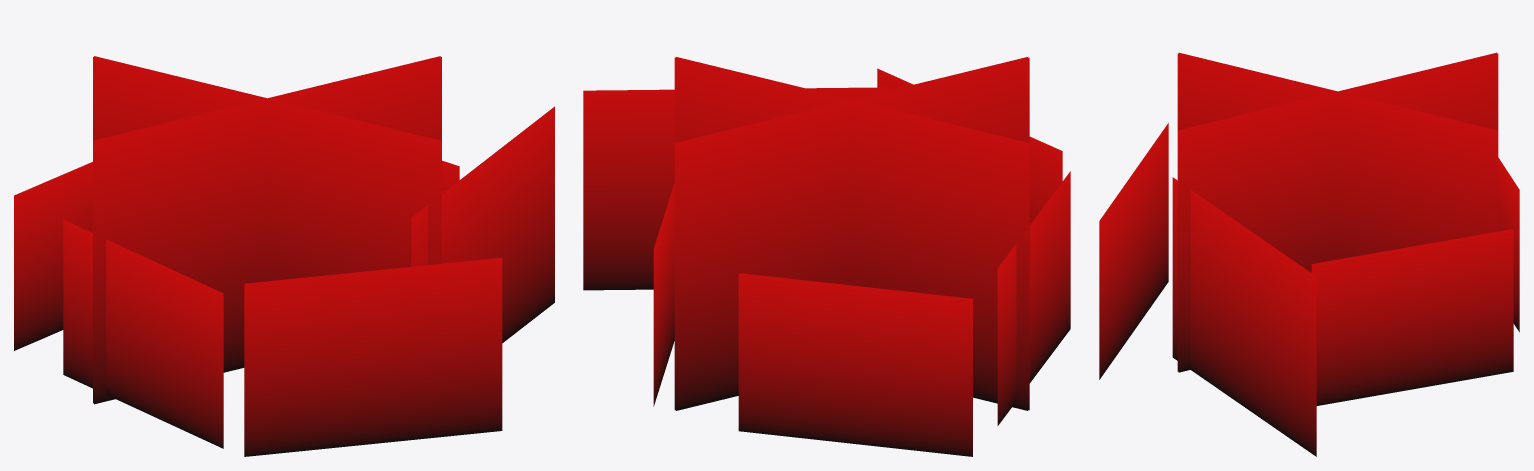
The model's file is SM_Grass_03-3.fbx.
3 views of the same model, side by side, from view 1: azimuth 30°, elevation 25°; view 2: azimuth 150°, elevation 25°; view 3: azimuth 270°, elevation 25° (orthographic). The views are drawn at different scales.
Visible parts, largest first — view 1: SM_Nature_Grass_03-3; view 2: SM_Nature_Grass_03-3; view 3: SM_Nature_Grass_03-3.
Part boxes in pixels (<box>): SM_Nature_Grass_03-3: <box>14,56,554,456</box>; SM_Nature_Grass_03-3: <box>583,57,1070,456</box>; SM_Nature_Grass_03-3: <box>1099,52,1519,456</box>.
Bounding box in the file's own units: 42.78 × 23.24 × 36.69.
